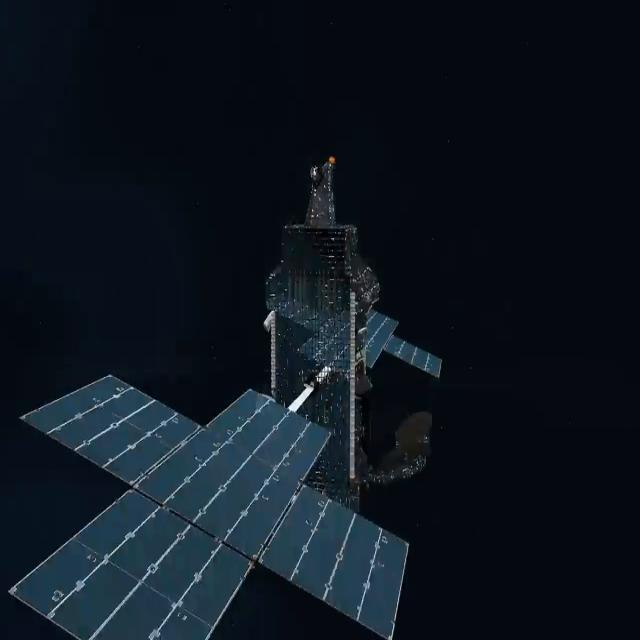sat: (0, 139, 463, 640)
